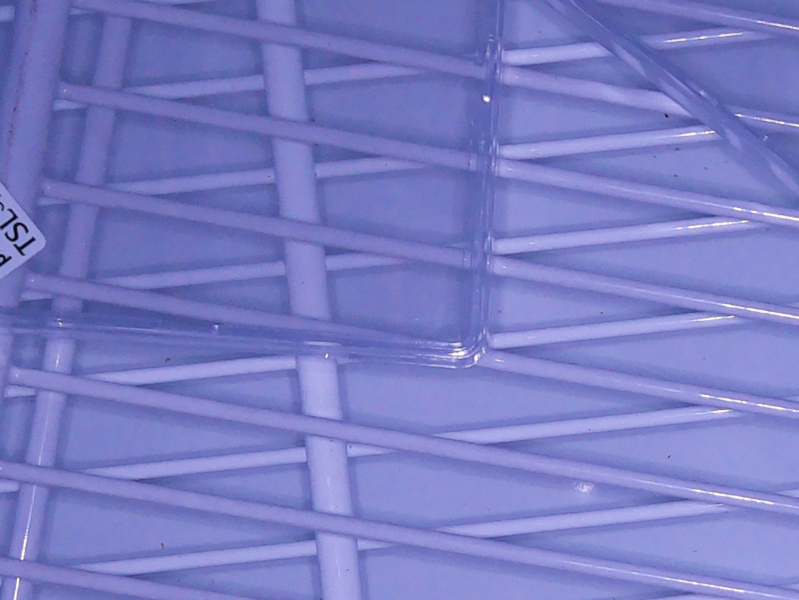plate: (1, 1, 509, 371), (540, 1, 799, 205)
